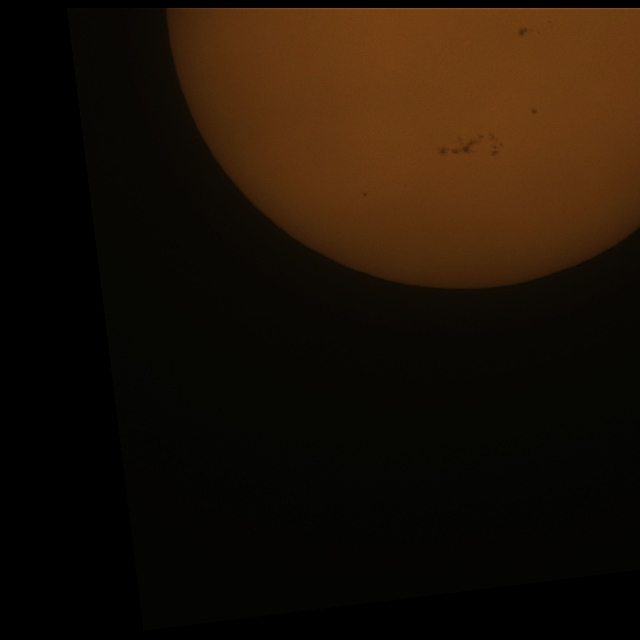sunspot: (449, 131, 503, 157), (440, 135, 479, 157), (487, 134, 504, 159), (517, 27, 529, 37), (530, 108, 538, 115), (362, 191, 368, 197)
